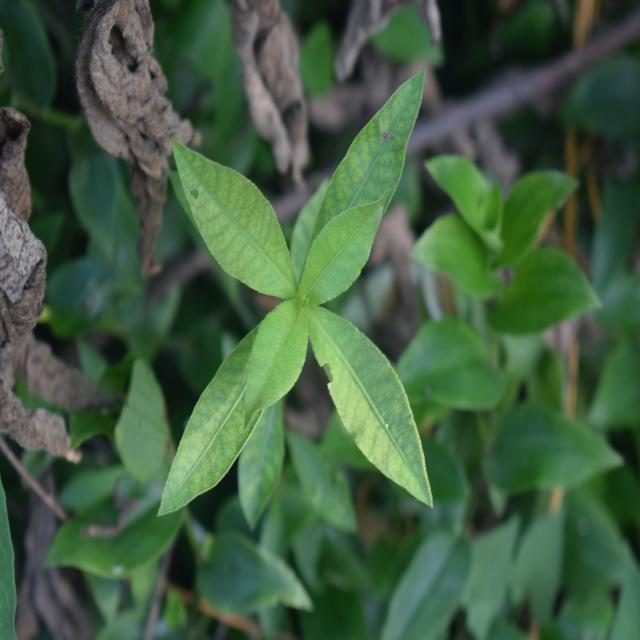Alligatorweed: (167, 94, 450, 522)
